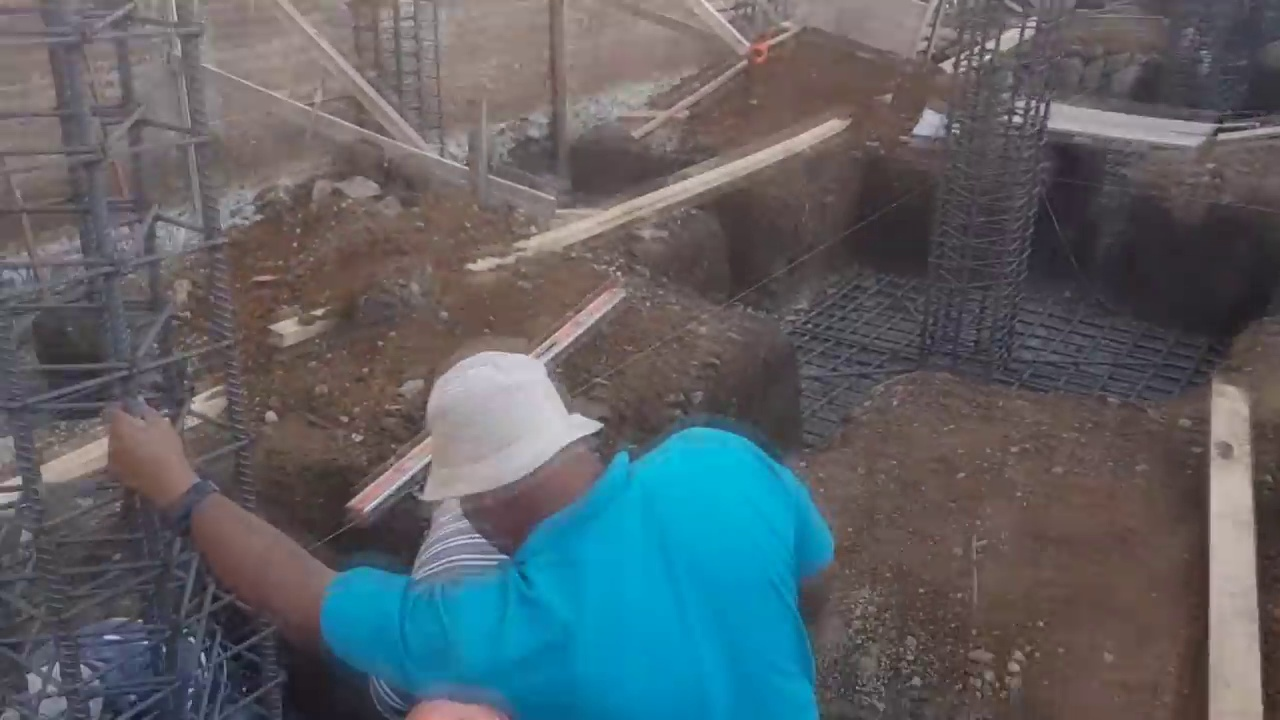helmet-off: (407, 358, 615, 543)
person: (218, 358, 844, 712)
